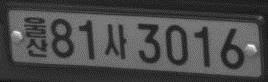0: (163, 23, 188, 66)
1: (193, 23, 212, 69), (77, 18, 97, 61)
3: (136, 22, 162, 64)
6: (219, 26, 245, 69)
8: (49, 17, 75, 59)
사: (102, 21, 128, 61)
울산_V: (22, 15, 49, 60)
